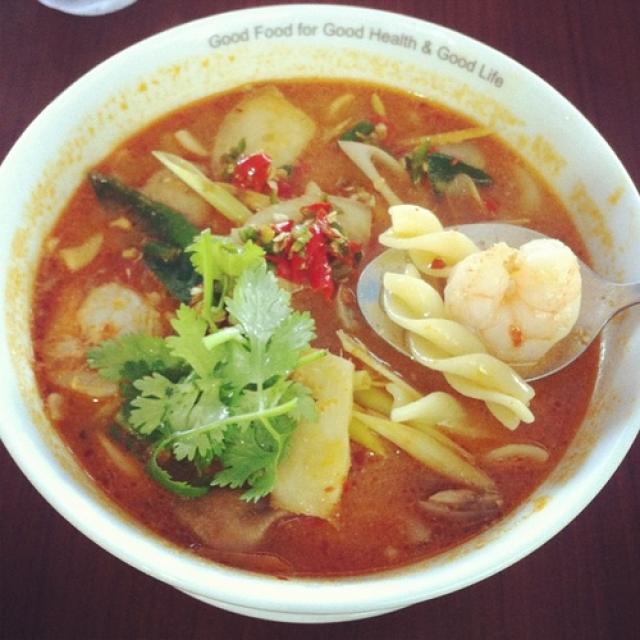汤锅炖物: (11, 18, 621, 589)
